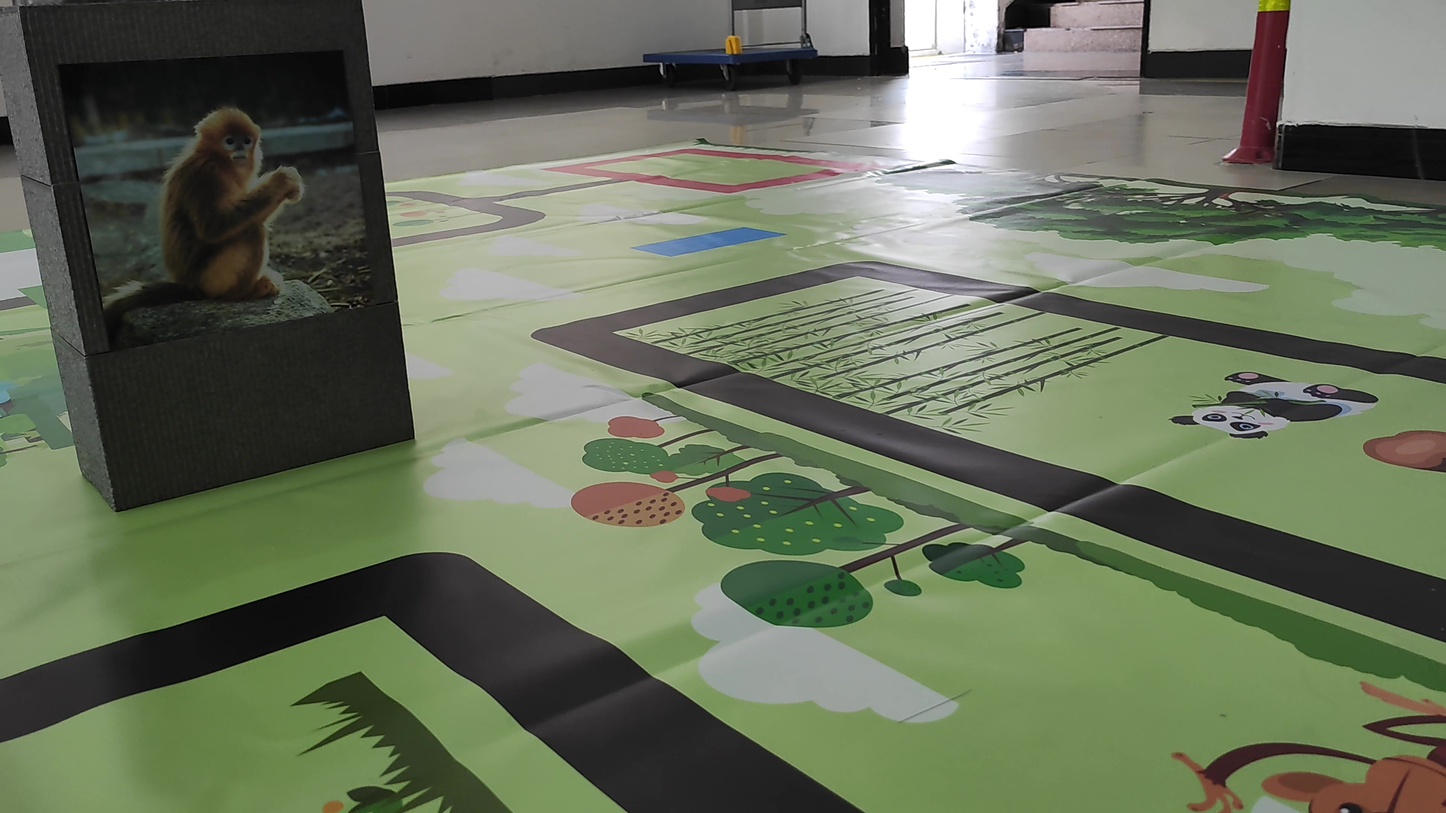monkey: (95, 92, 318, 326)
